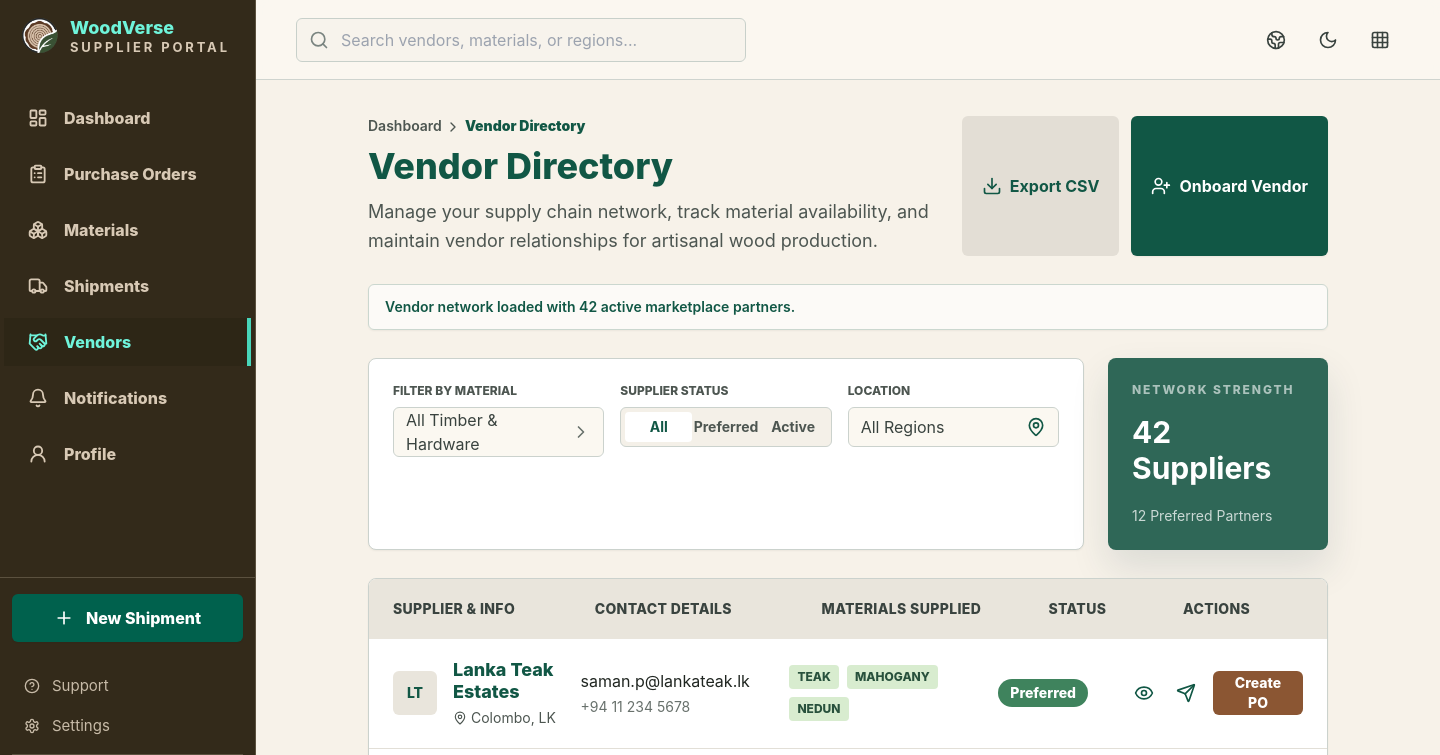
SupplierVendorsPage filters › narrows the directory by supplier status
Expected: the heading "Lanka Teak Estates" is shown, left=453, top=658, right=564, bottom=704
Note: EcoGloss is the only Inactive supplier, so it drops out under Preferred.
Click the button "Preferred" at (726, 426), box left=692, top=412, right=760, bottom=442
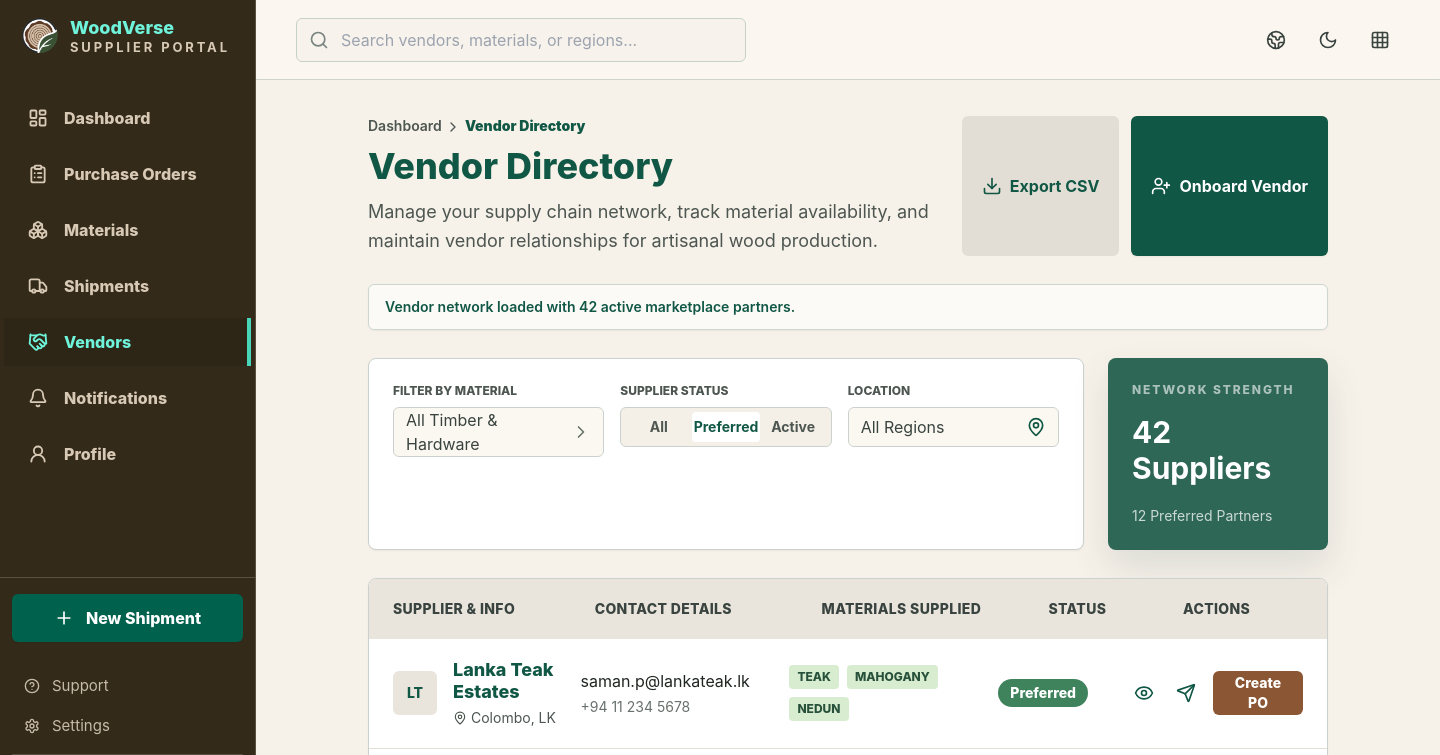
Expected: the heading "Lanka Teak Estates" is shown, left=453, top=658, right=564, bottom=704
Click the button "All" at (659, 426), box left=625, top=412, right=692, bottom=442
(page scrolled)
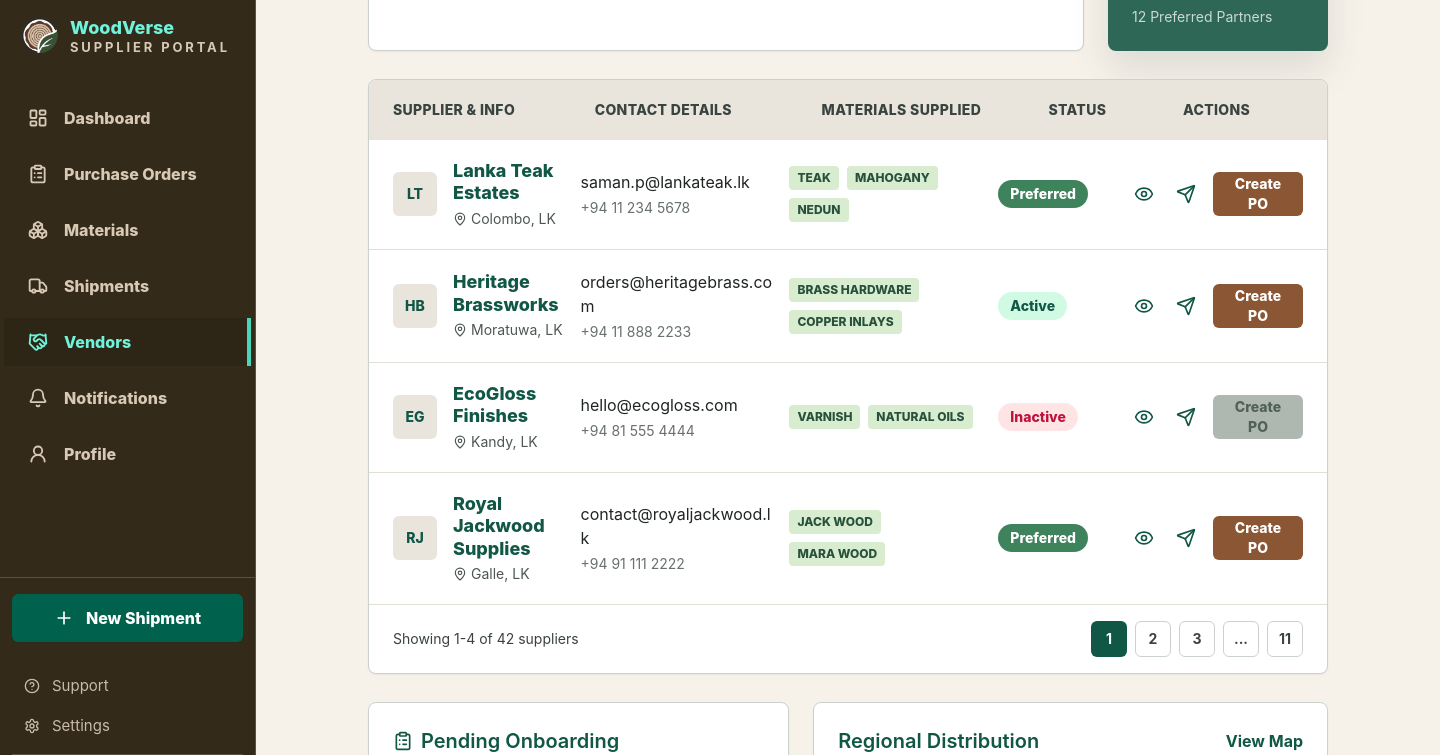
Expected: the heading "EcoGloss Finishes" is shown, left=453, top=382, right=536, bottom=426
